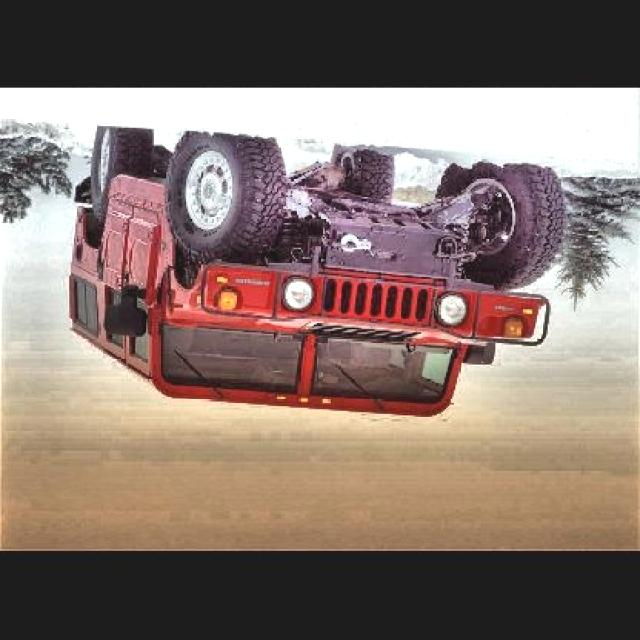red: (60, 162, 598, 410)
